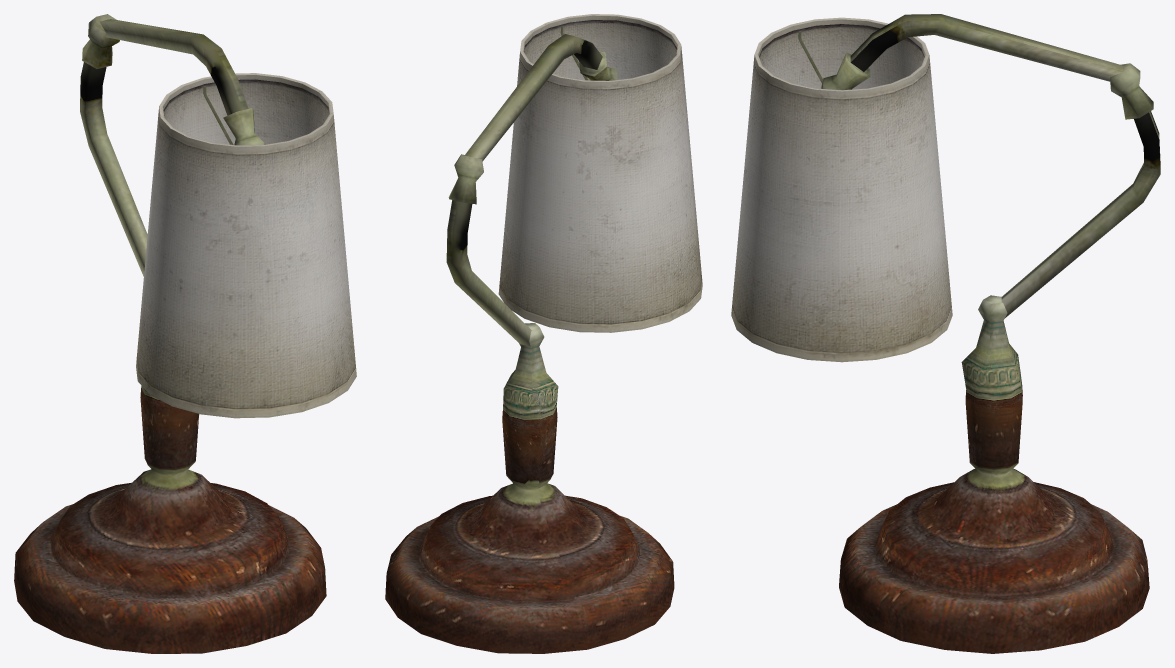
Rendered from sm35_039_lightstand02a.fbx.
3 renders of one model, left to right at view 1: azimuth 30°, elevation 25°; view 2: azimuth 150°, elevation 25°; view 3: azimuth 270°, elevation 25°, orthographic. The views are drawn at different scales.
Visible parts, largest first — view 1: LOD_1_Group_1_Sub_1__sm35_039_LightStand02AS_B_Mat__Emissive, LOD_1_Group_0_Sub_1__sm35_039_LightStand02A_A_Mat; view 2: LOD_1_Group_0_Sub_1__sm35_039_LightStand02A_A_Mat, LOD_1_Group_1_Sub_1__sm35_039_LightStand02AS_B_Mat__Emissive; view 3: LOD_1_Group_0_Sub_1__sm35_039_LightStand02A_A_Mat, LOD_1_Group_1_Sub_1__sm35_039_LightStand02AS_B_Mat__Emissive.
Boxes of the visible parts, <box> form: LOD_1_Group_1_Sub_1__sm35_039_LightStand02AS_B_Mat__Emissive: <box>136,73,356,418</box>; LOD_1_Group_0_Sub_1__sm35_039_LightStand02A_A_Mat: <box>14,14,329,653</box>; LOD_1_Group_0_Sub_1__sm35_039_LightStand02A_A_Mat: <box>385,20,677,653</box>; LOD_1_Group_1_Sub_1__sm35_039_LightStand02AS_B_Mat__Emissive: <box>498,14,702,332</box>; LOD_1_Group_0_Sub_1__sm35_039_LightStand02A_A_Mat: <box>759,14,1160,653</box>; LOD_1_Group_1_Sub_1__sm35_039_LightStand02AS_B_Mat__Emissive: <box>731,17,952,362</box>.
Bounding box in the file's own units: 0.2566 × 0.5148 × 0.3514.
